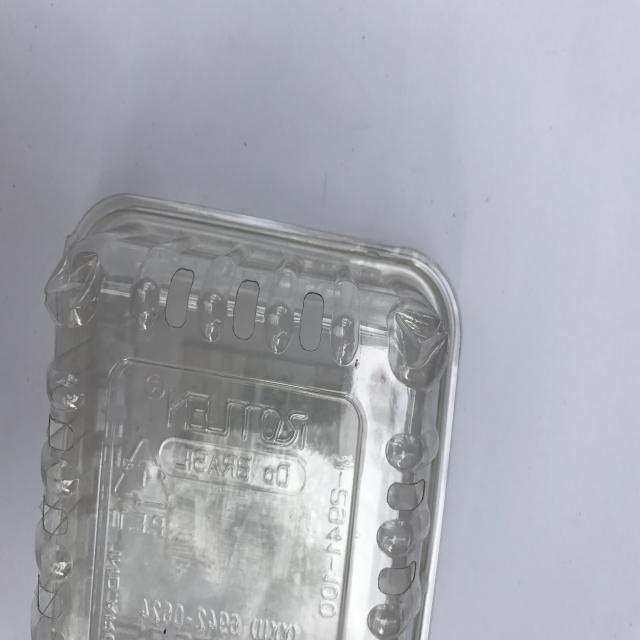plastic: (30, 192, 460, 640)
